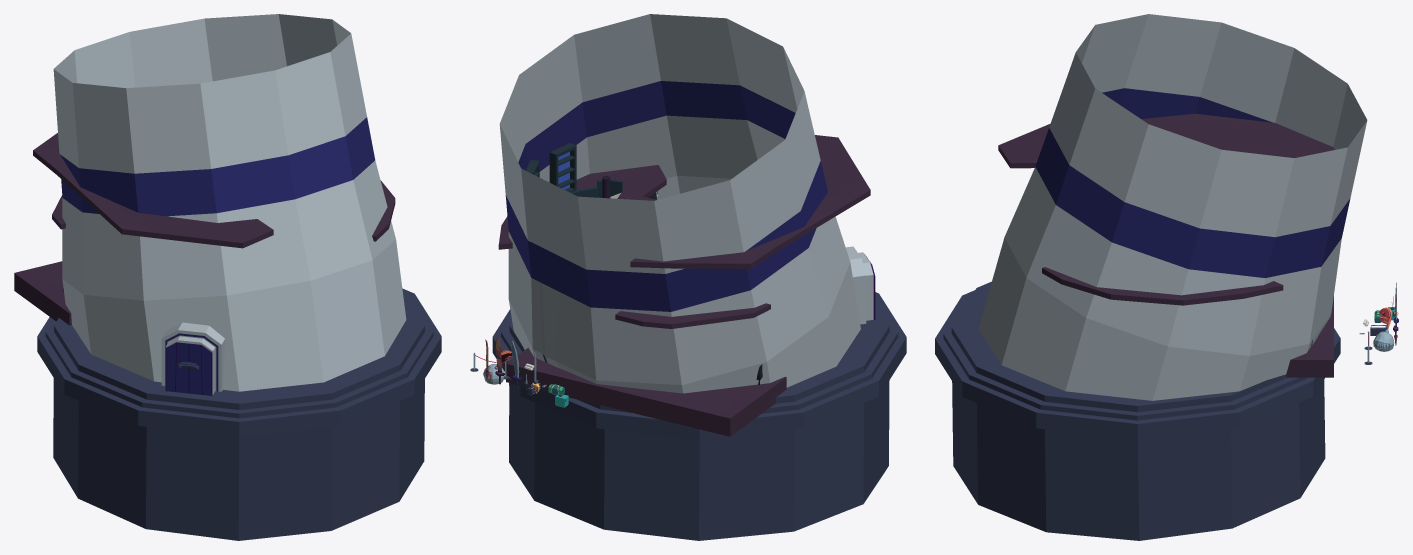
Rendered from INT_FeimsterTest.fbx.
3 views of the same model, side by side, from view 1: azimuth 30°, elevation 25°; view 2: azimuth 150°, elevation 25°; view 3: azimuth 270°, elevation 25° (orthographic). The views are drawn at different scales.
Visible parts, largest first — view 1: ScremSecure.004, ScremSecure, Cube.081, ScremSecure.002, Cube.079, Cube.088; view 2: ScremSecure.004, ScremSecure, Cube.079, Cube.081, Cube.088, Cube.087, Bookshelf01.016, Cylinder.082; view 3: ScremSecure.004, ScremSecure, Cube.081, Cube.088, Cube.079.
Part boxes in pixels (x1,y1,x2,y2): ScremSecure.004: (53,14,406,394); ScremSecure: (37,288,441,540); Cube.081: (33,133,273,248); ScremSecure.002: (165,342,212,395); Cube.079: (14,261,71,325); Cube.088: (372,180,395,241); ScremSecure.004: (499,14,873,393); ScremSecure: (492,292,906,540); Cube.079: (506,347,786,436); Cube.081: (618,135,870,268); Cube.088: (498,165,666,249); Cube.087: (615,303,770,328); Bookshelf01.016: (549,143,576,192); Cylinder.082: (570,176,622,198); ScremSecure.004: (978,14,1367,400); ScremSecure: (935,281,1340,540); Cube.081: (998,113,1334,168); Cube.088: (1042,267,1283,305); Cube.079: (1286,296,1333,377).
Size of the model in its own units: 3144 by 3556 by 3592.
